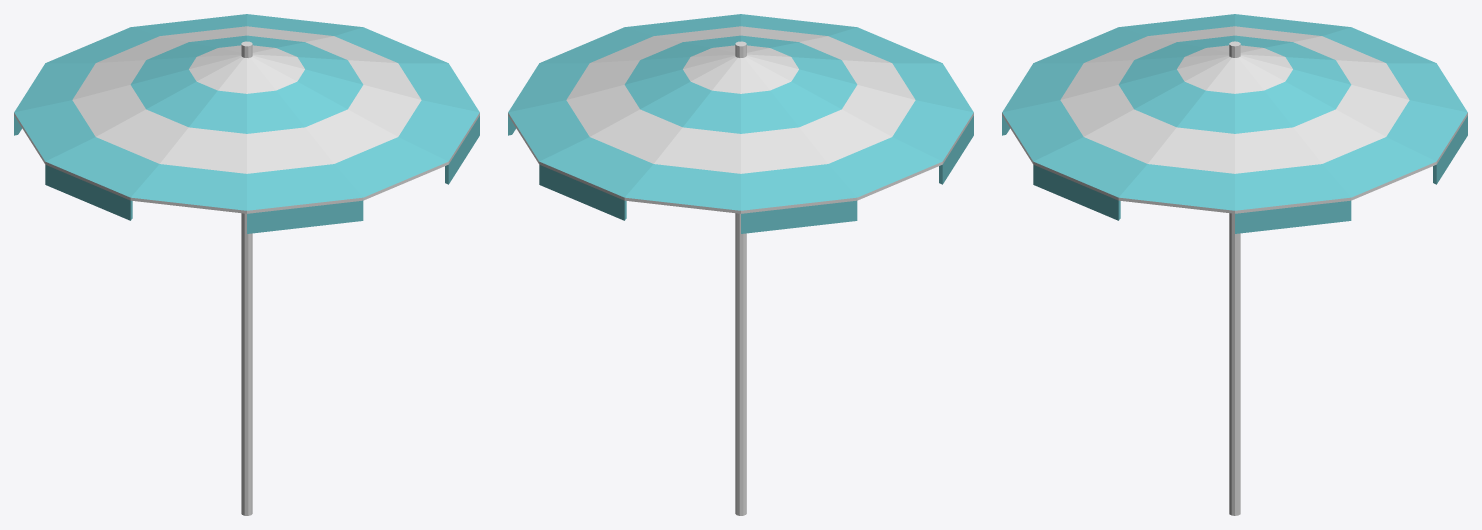
File: O_Enviroment_Parasol_1.fbx
3 renders of one model, left to right at view 1: azimuth 30°, elevation 25°; view 2: azimuth 150°, elevation 25°; view 3: azimuth 270°, elevation 25°, orthographic.
Visible parts, largest first — view 1: pCylinder3; view 2: pCylinder3; view 3: pCylinder3.
Boxes of the visible parts, x1=… form: pCylinder3: x1=14, y1=14, x2=479, y2=515; pCylinder3: x1=508, y1=14, x2=973, y2=515; pCylinder3: x1=1002, y1=14, x2=1467, y2=515.
Size of the model in its own units: 2 by 2.23 by 2.
